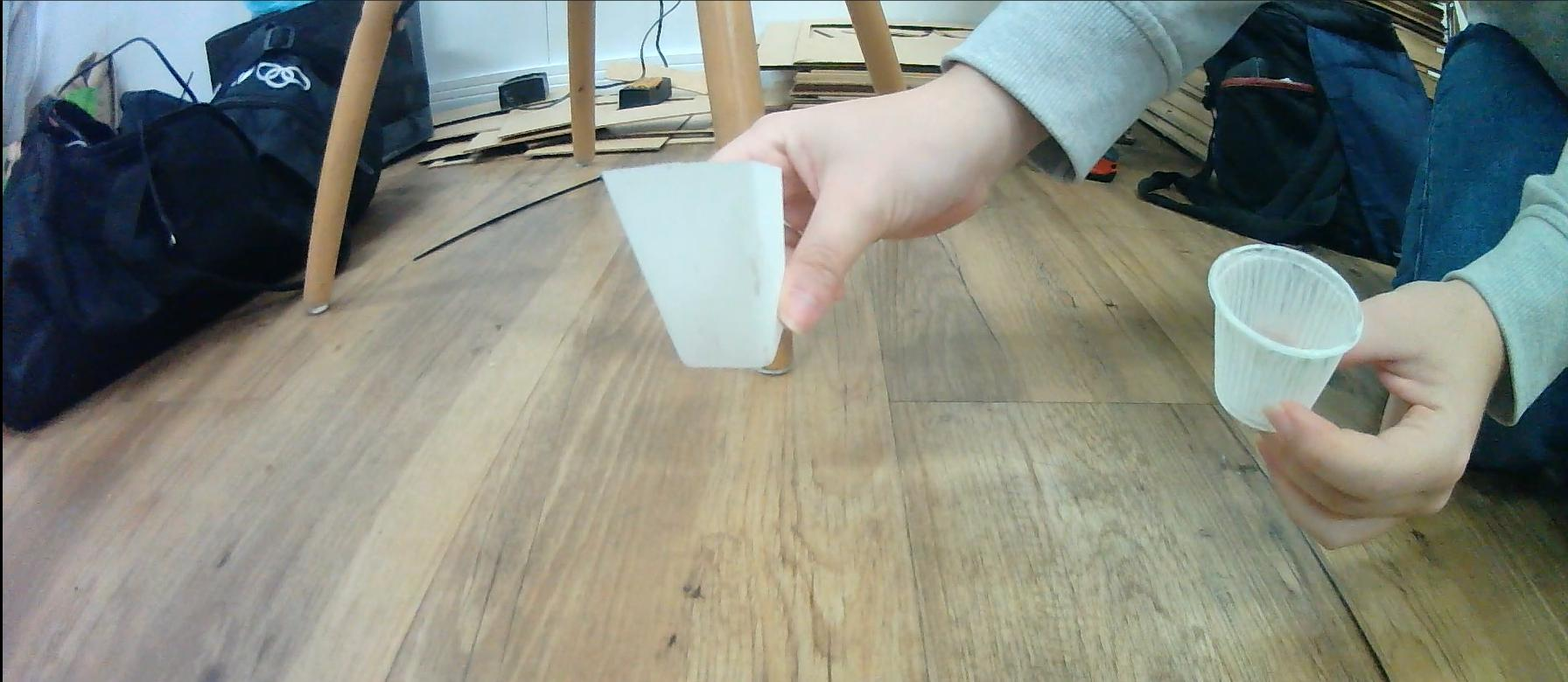erva_daninha: (597, 157, 787, 371)
planta: (1204, 241, 1366, 435)
